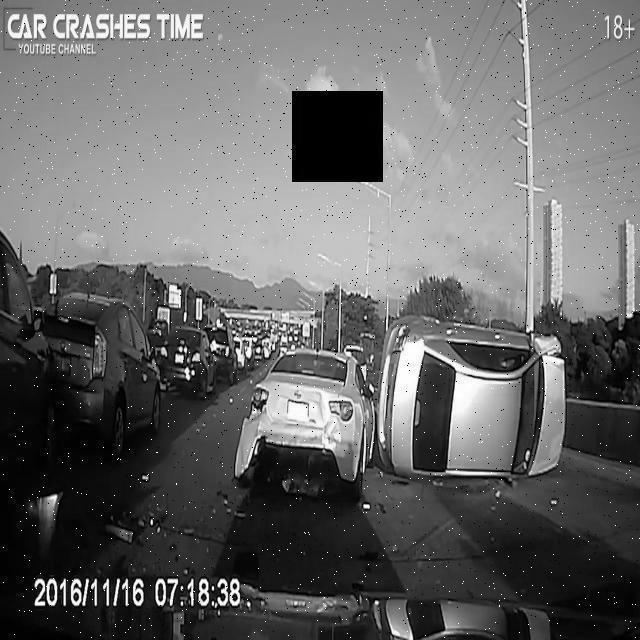accident: (234, 311, 570, 505)
vehicle: (38, 290, 166, 470), (1, 222, 65, 486), (156, 317, 212, 401), (203, 316, 239, 386), (233, 335, 249, 373)
